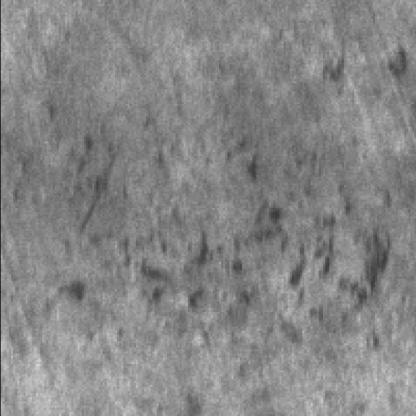rolled-in_scale: (52, 162, 399, 354)
